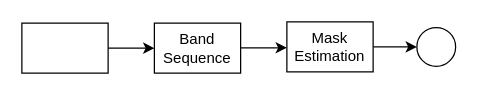
Image size: 478x95. Some labels were removed from this diagram. Each missing label, with the centre of its shape:
Band Split: (x=64, y=47)
Loss: (x=436, y=46)
